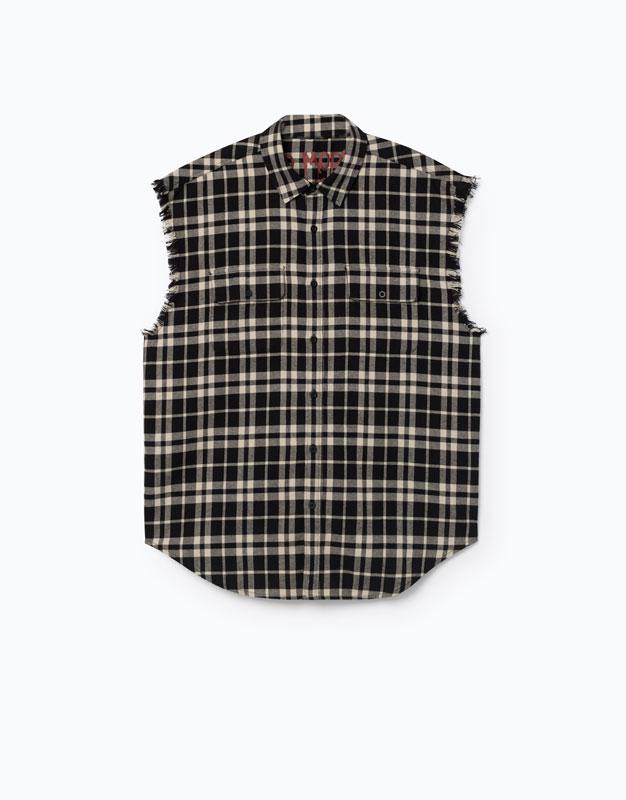teeshirt: (118, 109, 505, 630)
